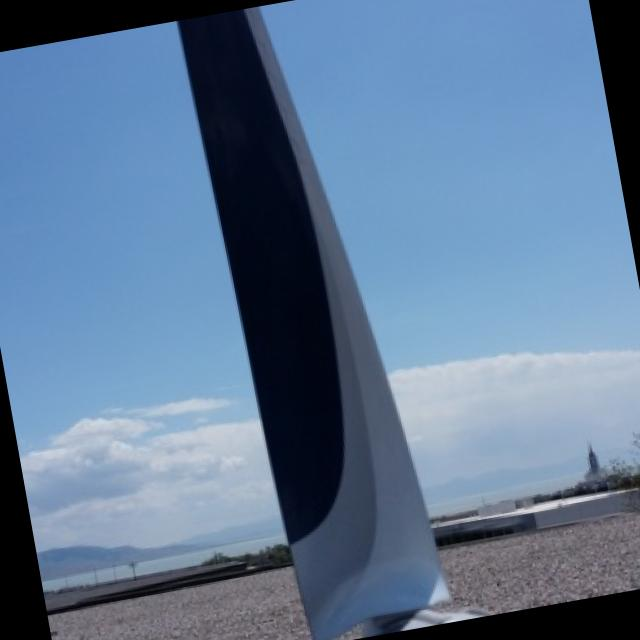healthy: (182, 6, 482, 640)
